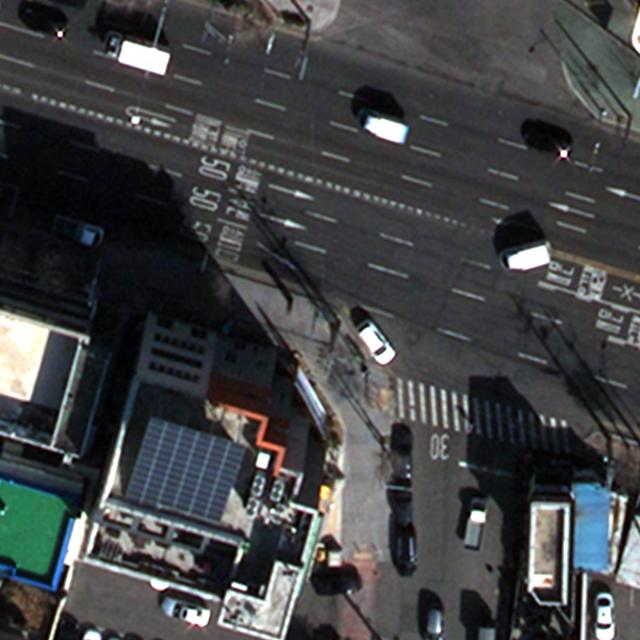solarpanel: (120, 413, 248, 540)
